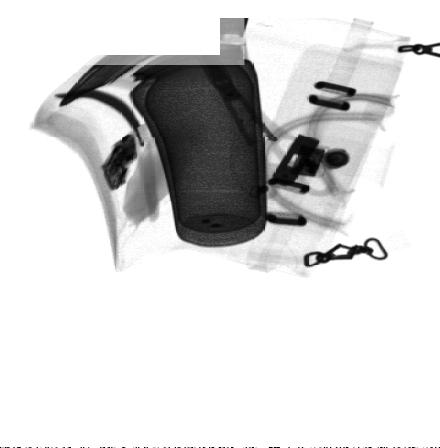Scissors: (194, 54, 336, 201)
